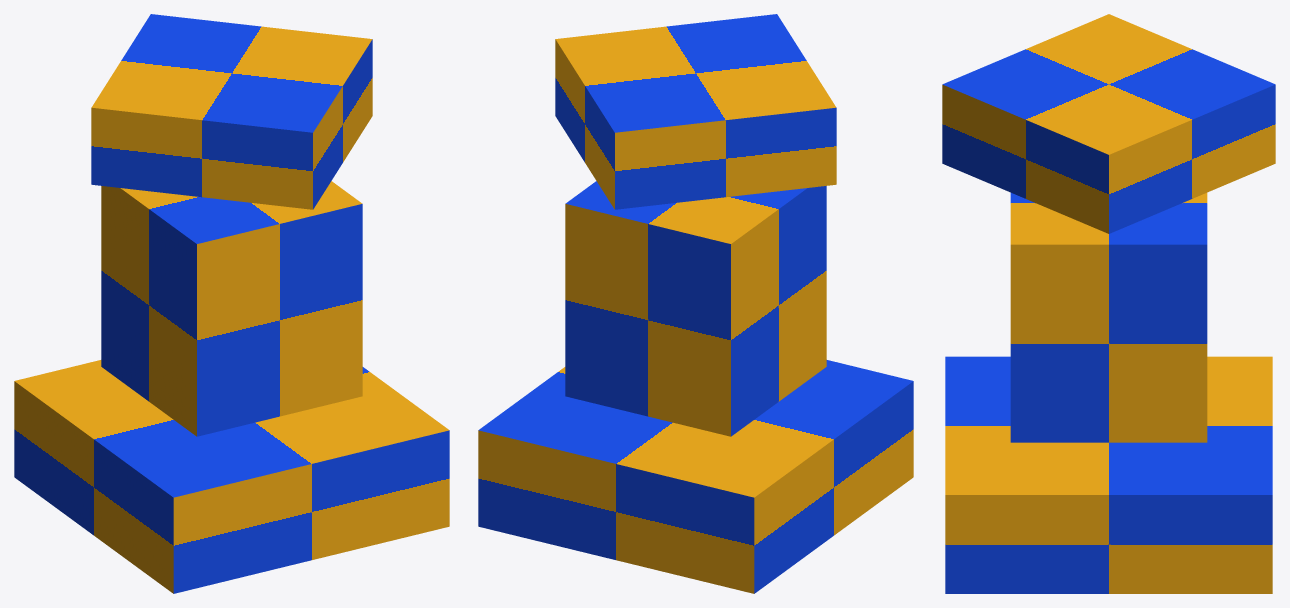
File: tower.gltf
3 renders of one model, left to right at view 1: azimuth 30°, elevation 25°; view 2: azimuth 150°, elevation 25°; view 3: azimuth 270°, elevation 25°, orthographic. The views are drawn at different scales.
Visible parts, largest first — view 1: Base, Middle, Top; view 2: Base, Middle, Top; view 3: Base, Top, Middle.
Part boxes in pixels (x1,y1,x2,y2): Base: (14,360,449,593); Middle: (101,181,362,436); Top: (91,14,372,209); Base: (478,360,913,593); Middle: (565,181,826,436); Top: (555,14,836,209); Base: (945,356,1272,593); Top: (942,14,1275,233); Middle: (1010,193,1207,442).
Bounding box in the file's own units: 2.44 × 3.56 × 2.44.
1 material, 1 textured.
